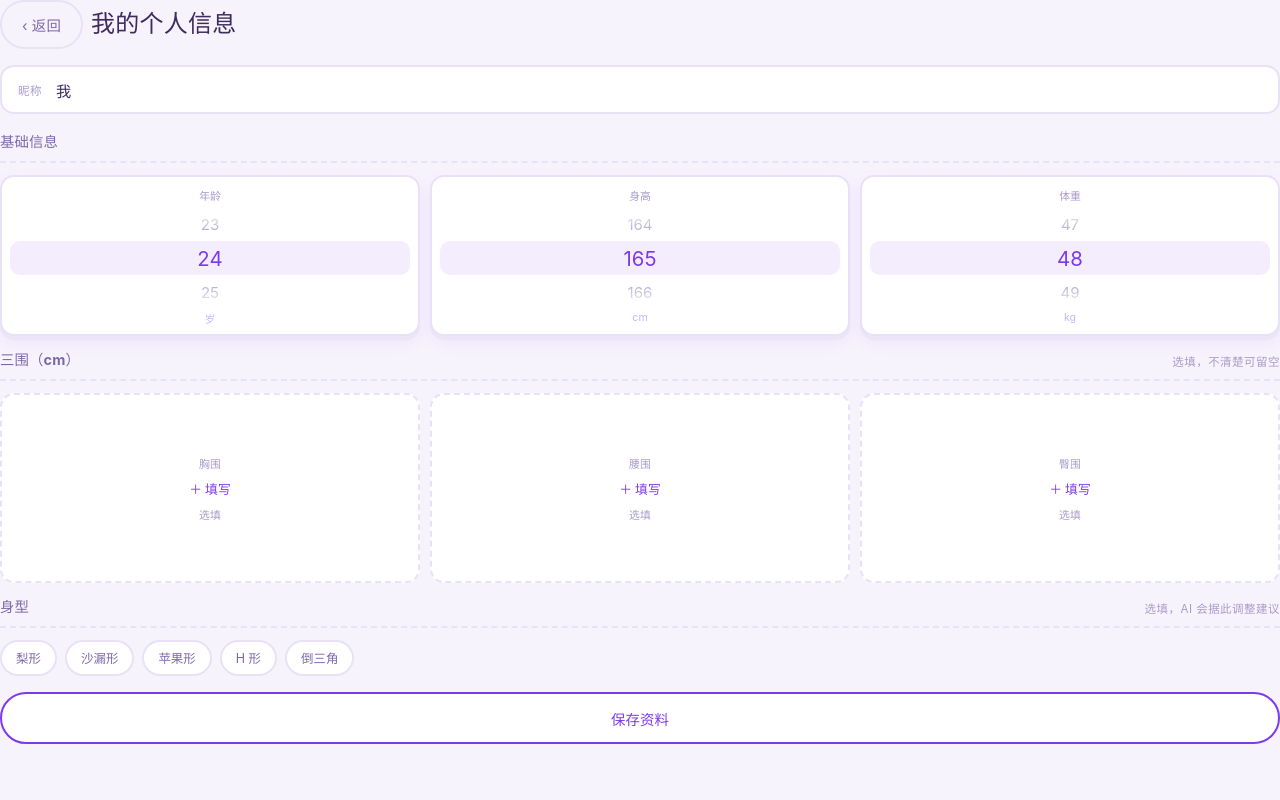
body profile sheet › says so when the device refuses to store, instead of claiming success
(page scrolled)
Click the button "保存资料".
click(640, 718)  # box [0,692,1279,744]
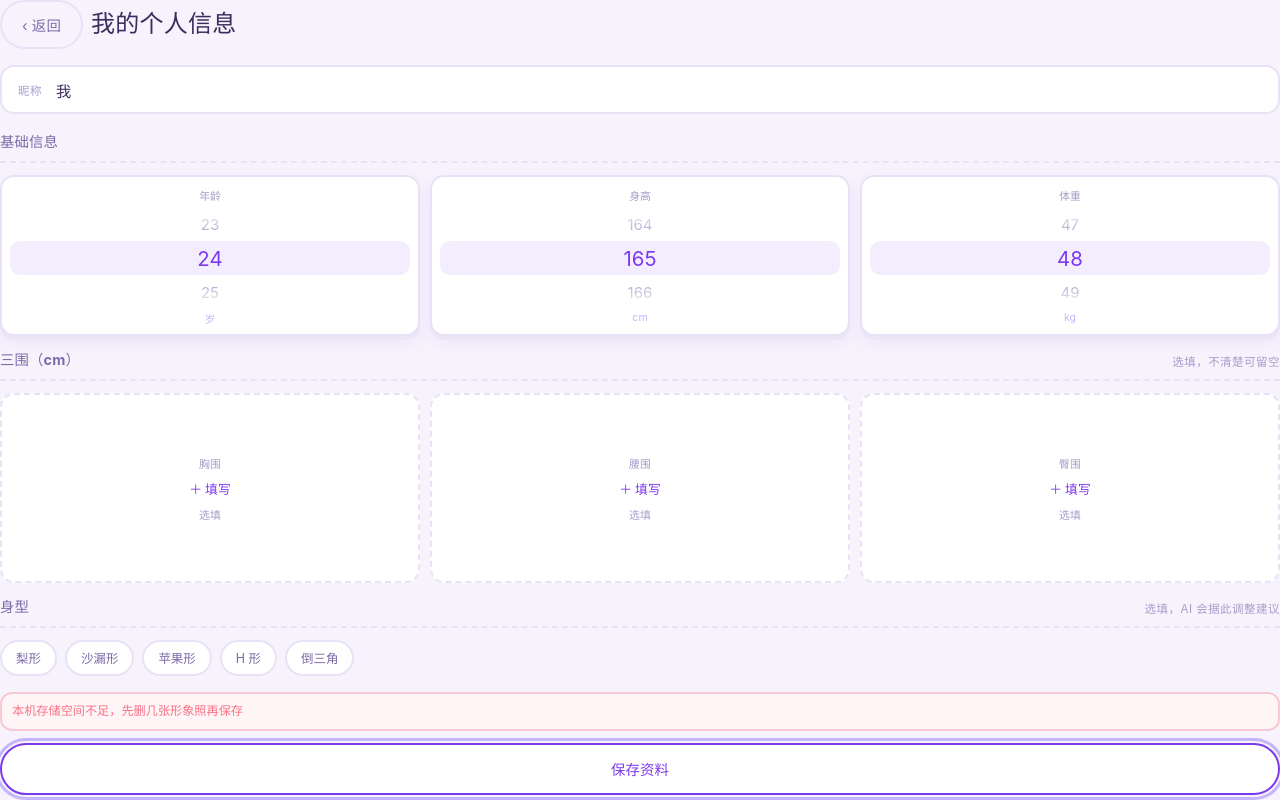
Expected: the message shows "本机存储空间不足", [12,703,243,718]
